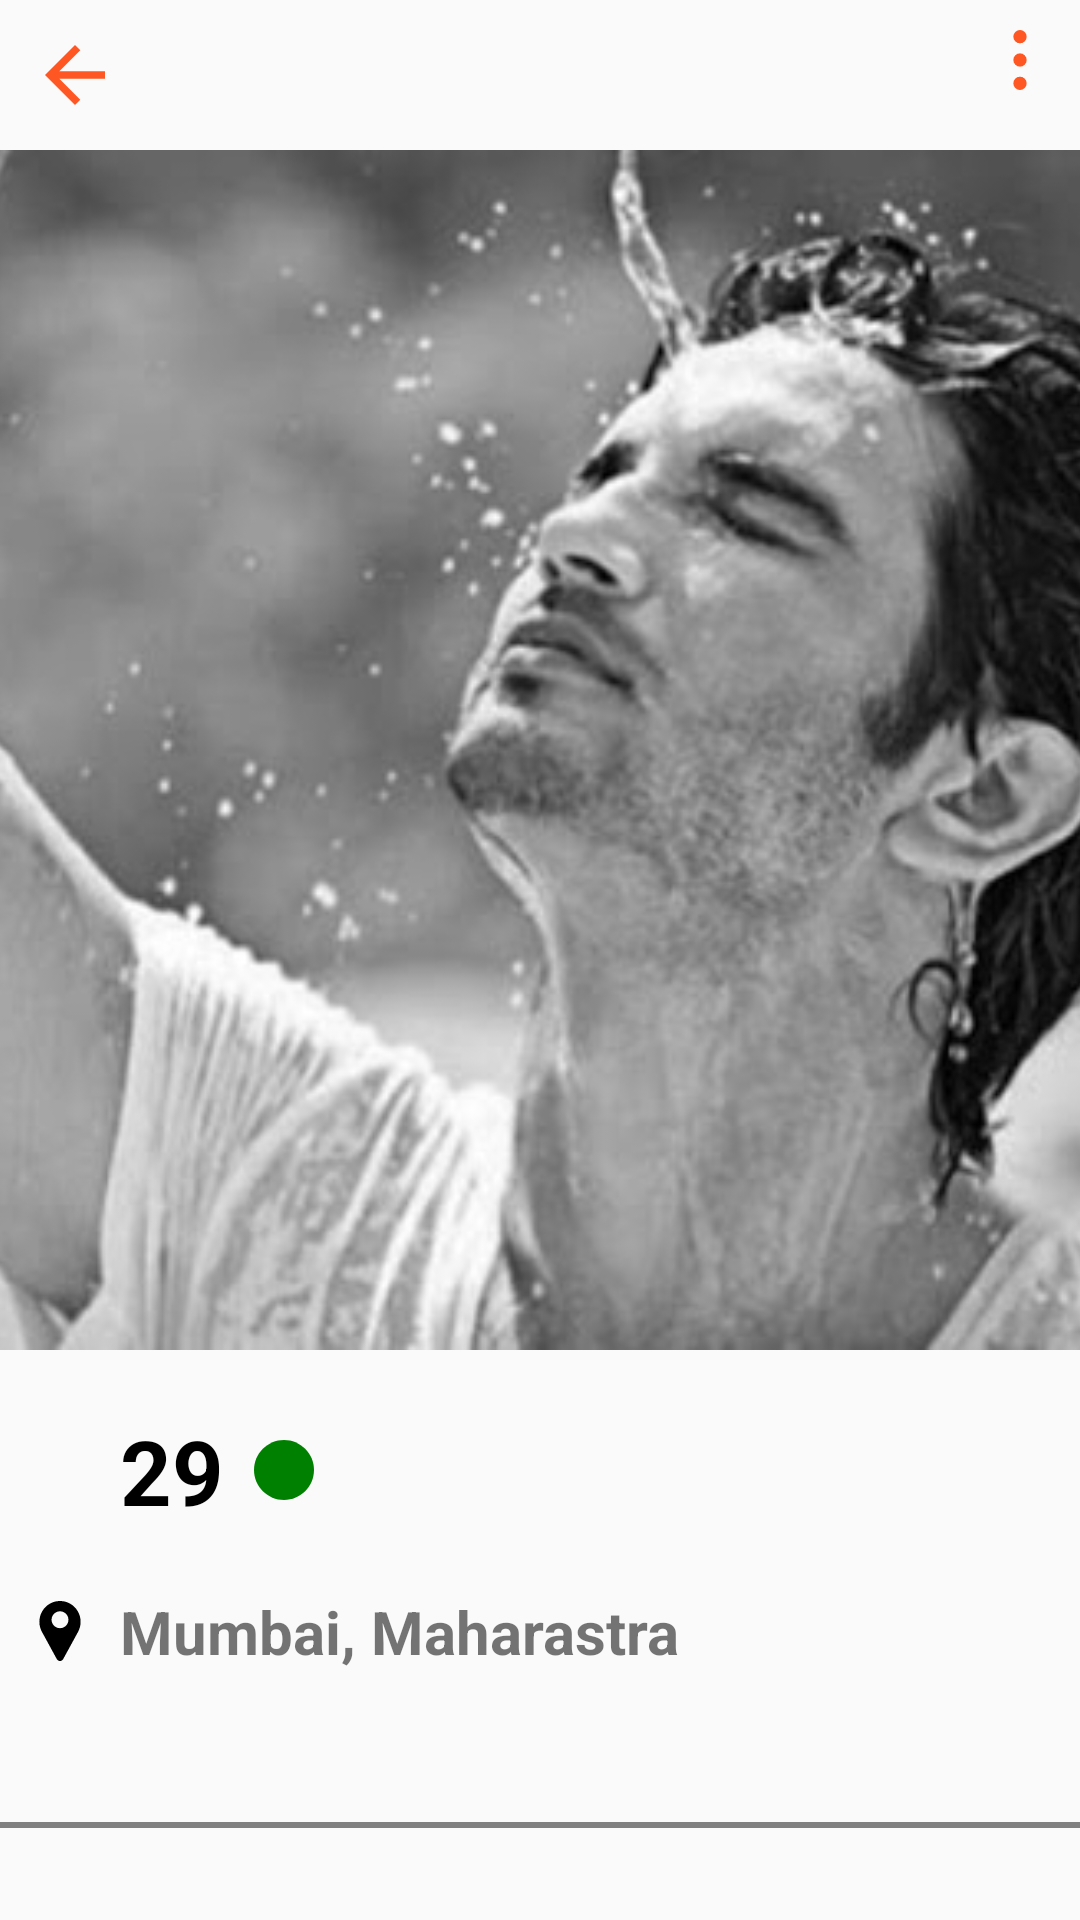

Point at icon controls on the screen. Image size 1080 × 1920, points as [x,y].
arrow back: [75,75]
threedot: [1020,60]
